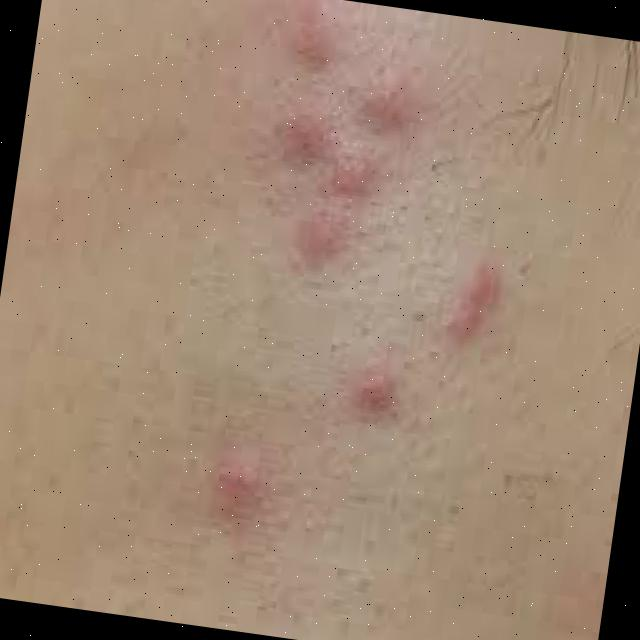kan emici bocekler: (349, 56, 448, 161), (438, 250, 510, 357), (270, 1, 358, 86), (265, 97, 346, 172), (203, 434, 276, 515), (287, 204, 361, 278), (342, 350, 410, 430), (320, 153, 386, 205)
